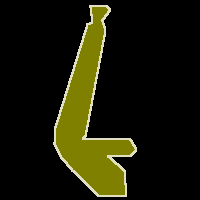tie: (54, 5, 136, 196)
